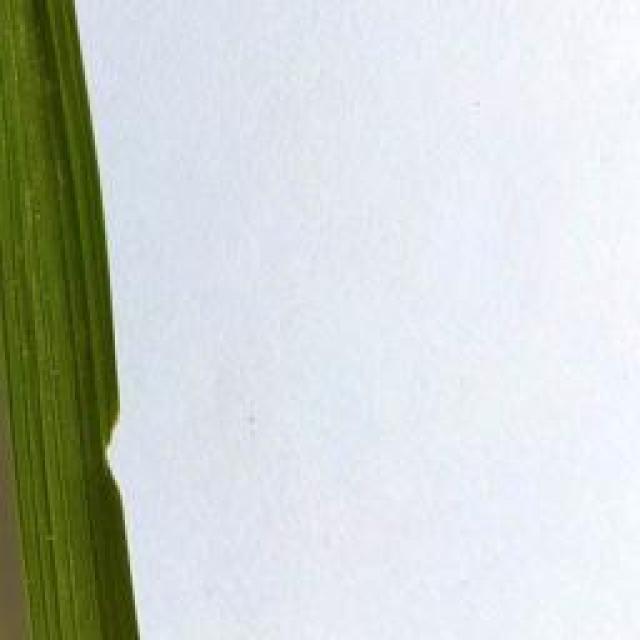Healthy-Plant: (0, 0, 83, 640)
